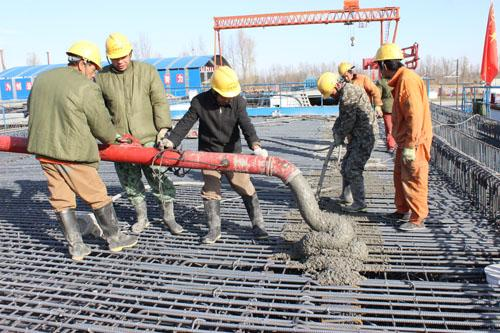boots: (95, 202, 138, 252), (57, 208, 90, 257), (146, 194, 182, 234), (243, 187, 269, 238), (200, 199, 226, 243), (125, 192, 150, 229), (396, 220, 431, 231), (340, 201, 367, 212), (384, 211, 411, 221)
gloves: (401, 148, 416, 165), (156, 127, 169, 145), (386, 134, 397, 151), (117, 133, 133, 144), (333, 133, 345, 146)
hard-hat: (66, 39, 102, 69), (210, 65, 241, 98), (105, 31, 133, 59), (372, 43, 404, 62), (317, 72, 338, 99), (337, 61, 355, 75)
person: (25, 39, 139, 261), (159, 64, 269, 244), (94, 31, 184, 235), (372, 42, 433, 232), (316, 72, 376, 212)
ppe-suit: (385, 64, 433, 222), (329, 80, 376, 210)
